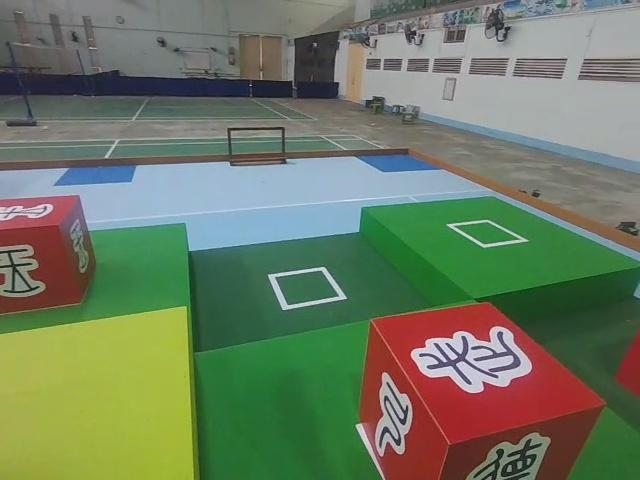R2 Fake: (351, 298, 605, 480)
R2 Real: (2, 194, 99, 312)
